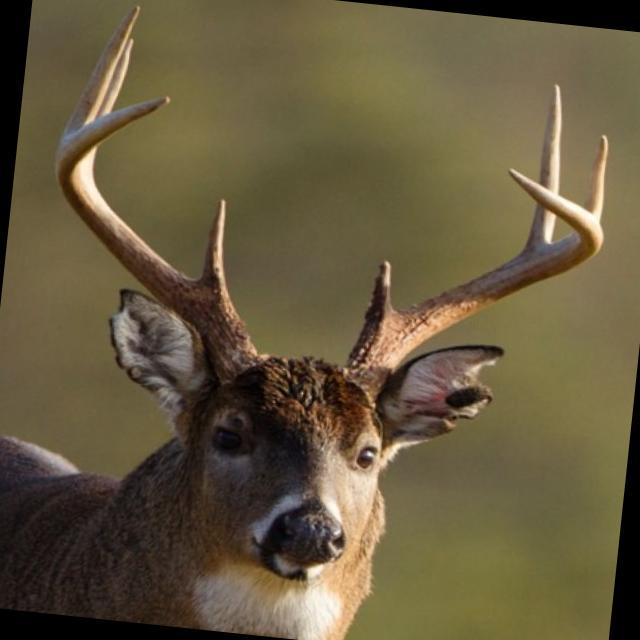L-F: (343, 167, 605, 399)
L-G1: (364, 260, 394, 321)
R-F: (54, 96, 257, 379)
R-G1: (202, 196, 227, 290)
